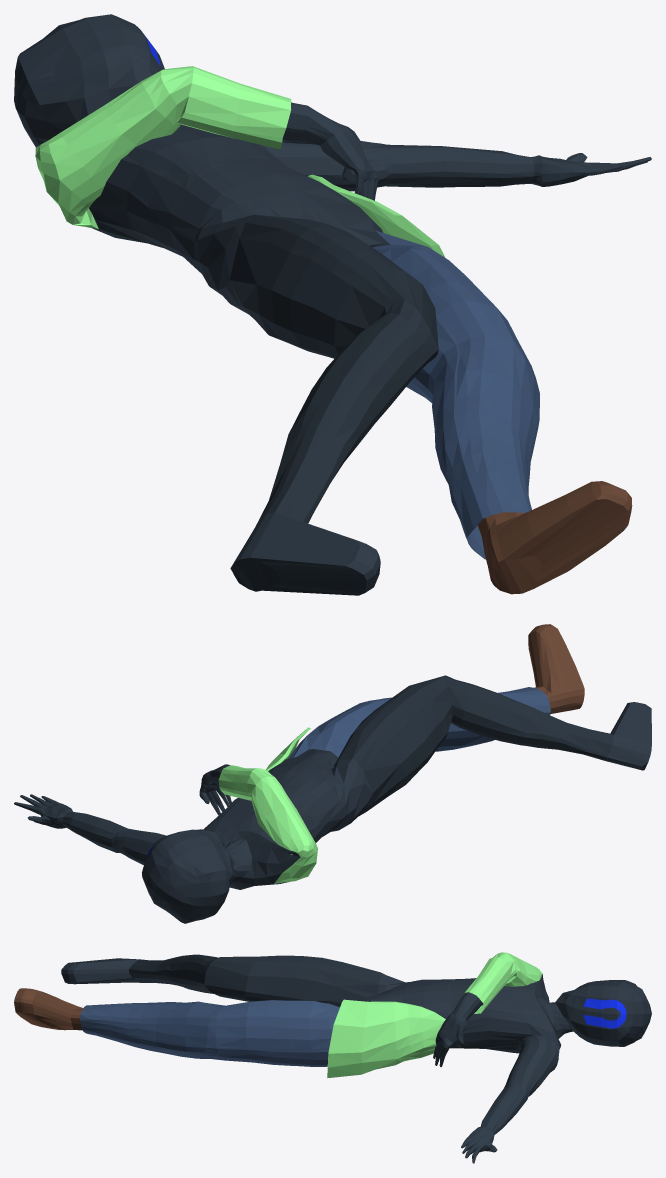
The model's file is Mar_Die_000017.obj.
3 renders of one model, top to bottom at view 1: azimuth 30°, elevation 25°; view 2: azimuth 150°, elevation 25°; view 3: azimuth 270°, elevation 25°, orthographic. The views are drawn at different scales.
Visible parts, largest first — view 1: Cube.000_Cube.001; view 2: Cube.000_Cube.001; view 3: Cube.000_Cube.001.
Boxes of the visible parts, left/top/right/bottom form: Cube.000_Cube.001: left=14, top=14, right=651, bottom=595; Cube.000_Cube.001: left=14, top=624, right=651, bottom=923; Cube.000_Cube.001: left=14, top=952, right=651, bottom=1163.
Bounding box in the file's own units: 2.8 × 0.7021 × 3.97.
